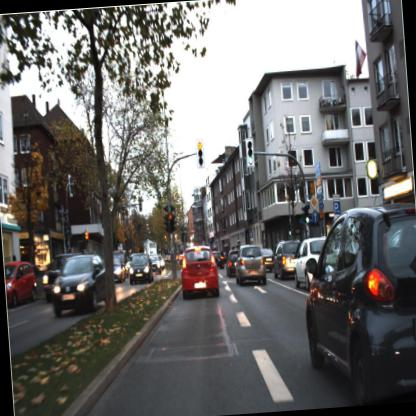mandatory: (311, 210, 321, 226)
other: (308, 192, 318, 210)
